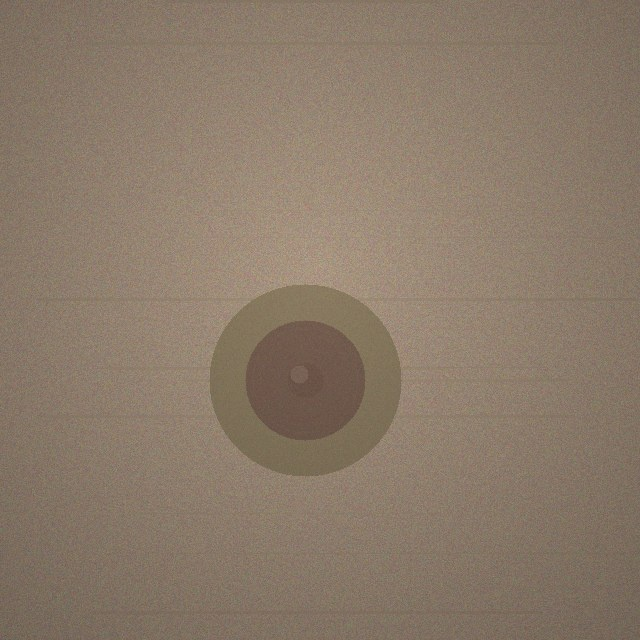good: (209, 284, 401, 476)
